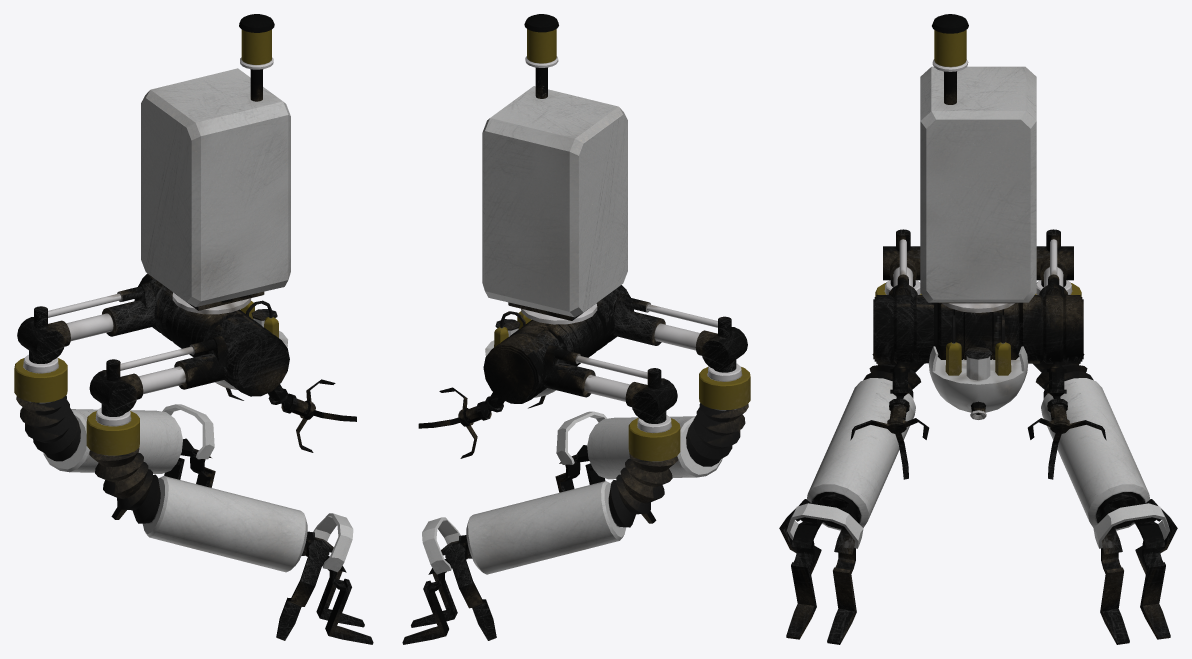
The model's file is POD.obj.
3 views of the same model, side by side, from view 1: azimuth 30°, elevation 25°; view 2: azimuth 150°, elevation 25°; view 3: azimuth 270°, elevation 25° (orthographic). The views are drawn at different scales.
Parts seen in each view (by area): view 1: POD; view 2: POD; view 3: POD.
Part boxes in pixels (x1,y1,x2,y2): POD: [14, 14, 373, 644]; POD: [402, 14, 750, 644]; POD: [779, 14, 1177, 644].
Size of the model in its own units: 2.63 by 5.71 by 3.43.
